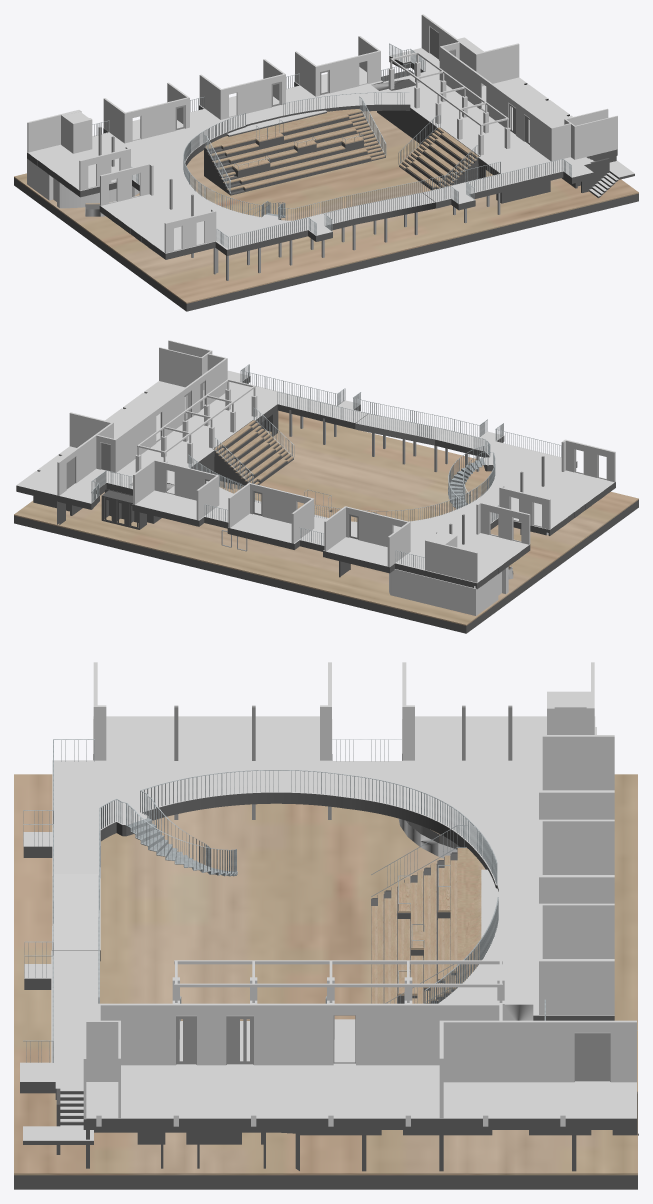
The model's file is kyutech_map.glb.
3 views of the same model, one above another, from view 1: azimuth 30°, elevation 25°; view 2: azimuth 150°, elevation 25°; view 3: azimuth 270°, elevation 25° (orthographic). The views are drawn at different scales.
Parts seen in each view (by area): view 1: GYMLABO竣工３Dデータ.023, 立方体.004, GYMLABO竣工３Dデータ.006, GYMLABO竣工３Dデータ.026, 立方体.009, 立方体.047, 立方体.006, 立方体.002, 立方体.007, GYMLABO竣工３Dデータ.003, 立方体, GYMLABO竣工３Dデータ.012 (+12 smaller); view 2: 立方体.004, GYMLABO竣工３Dデータ.023, GYMLABO竣工３Dデータ.006, GYMLABO竣工３Dデータ.026, 立方体.009, 立方体.047, 立方体, 立方体.007, 立方体.002, 立方体.006, GYMLABO竣工３Dデータ.003, 立方体.038 (+4 smaller); view 3: 立方体.004, GYMLABO竣工３Dデータ.023, 立方体.009, GYMLABO竣工３Dデータ.006, GYMLABO竣工３Dデータ.026, 立方体.047, 立方体.007, 立方体.002, 立方体.006, GYMLABO竣工３Dデータ.002, GYMLABO竣工３Dデータ.012, 立方体.036 (+11 smaller).
Boxes of the visible parts, box(x1,y1,x2,y2) form: GYMLABO竣工３Dデータ.023: box(27, 37, 634, 253); 立方体.004: box(14, 111, 638, 303); GYMLABO竣工３Dデータ.006: box(27, 56, 634, 259); GYMLABO竣工３Dデータ.026: box(92, 43, 571, 249); 立方体.009: box(421, 14, 617, 161); 立方体.047: box(14, 178, 638, 311); 立方体.006: box(199, 59, 285, 119); 立方体.002: box(103, 82, 189, 143); 立方体.007: box(295, 36, 380, 96); GYMLABO竣工３Dデータ.003: box(399, 128, 477, 189); 立方体: box(27, 158, 139, 208); GYMLABO竣工３Dデータ.012: box(205, 109, 361, 148); 立方体.004: box(14, 410, 638, 625); GYMLABO竣工３Dデータ.023: box(16, 370, 614, 582); GYMLABO竣工３Dデータ.006: box(16, 376, 615, 589); GYMLABO竣工３Dデータ.026: box(91, 364, 561, 568); 立方体.009: box(57, 340, 227, 495); 立方体.047: box(14, 500, 638, 633); 立方体: box(389, 566, 508, 615); 立方体.007: box(133, 459, 219, 520); 立方体.002: box(324, 506, 410, 566); 立方体.006: box(228, 482, 314, 543); GYMLABO竣工３Dデータ.003: box(215, 421, 293, 484); 立方体.038: box(425, 539, 477, 582); 立方体.004: box(14, 774, 637, 1175); GYMLABO竣工３Dデータ.023: box(20, 716, 636, 1140); 立方体.009: box(83, 1003, 636, 1119); GYMLABO竣工３Dデータ.006: box(20, 754, 638, 1171); GYMLABO竣工３Dデータ.026: box(23, 739, 637, 1062); 立方体.047: box(14, 1175, 637, 1189); 立方体.007: box(539, 903, 614, 1014); 立方体.002: box(539, 735, 614, 819); 立方体.006: box(539, 819, 614, 903); GYMLABO竣工３Dデータ.002: box(96, 818, 610, 1126); GYMLABO竣工３Dデータ.012: box(450, 848, 485, 983); 立方体.036: box(547, 691, 586, 734).
Size of the model in its own units: 4.27 by 0.6454 by 2.83.
Materials: 49 (21 with a texture image).
